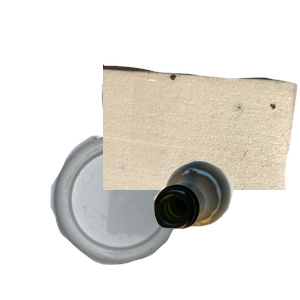glass: (151, 158, 300, 300)
metal: (99, 68, 244, 184)
plastic: (48, 132, 224, 300)
trash: (103, 62, 300, 242)
